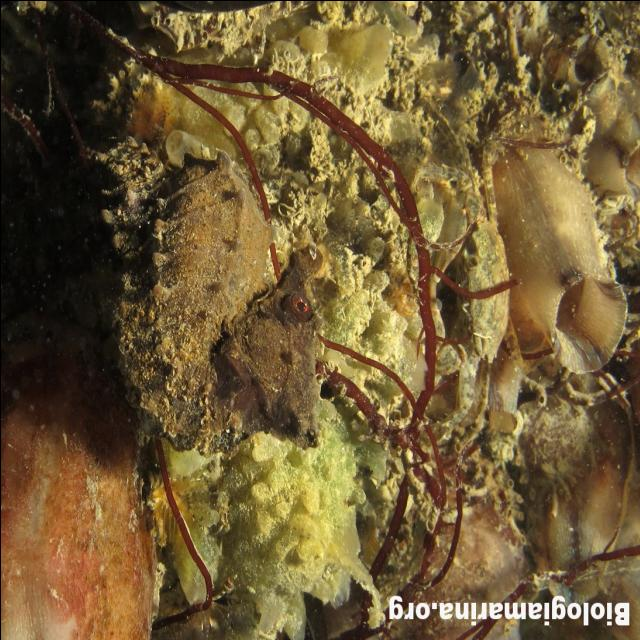Hippo: (199, 244, 331, 460)
